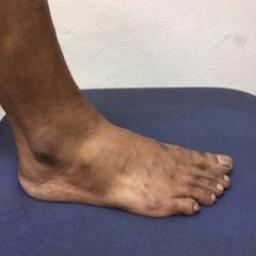Lateral View -Right Foot-: (6, 91, 241, 226)
